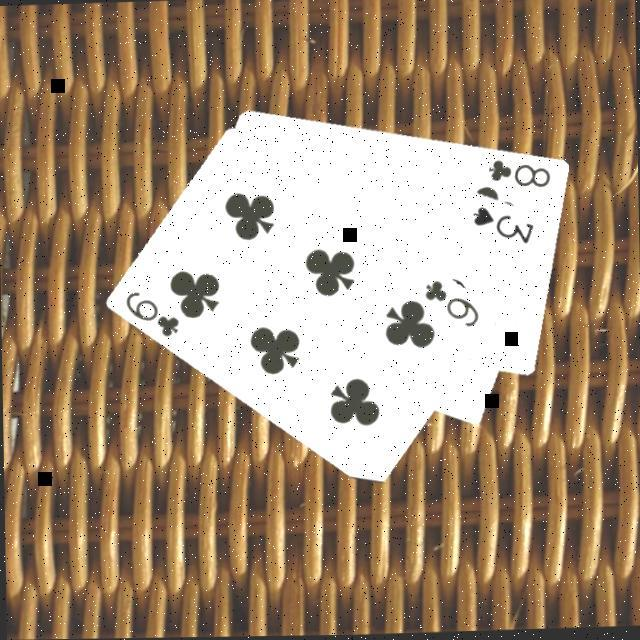3S: (470, 200, 539, 248)
6C: (421, 274, 484, 332), (123, 284, 184, 342)
8C: (486, 154, 556, 192)
